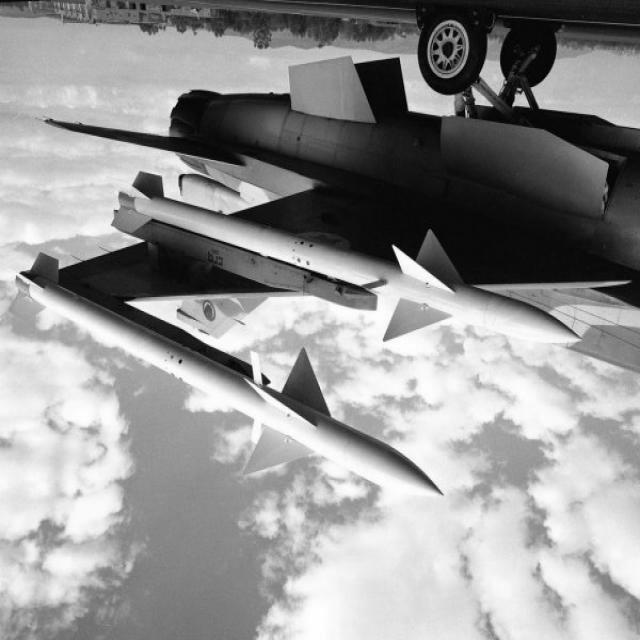Missile: (0, 208, 500, 573), (4, 257, 462, 523), (107, 175, 592, 363)
